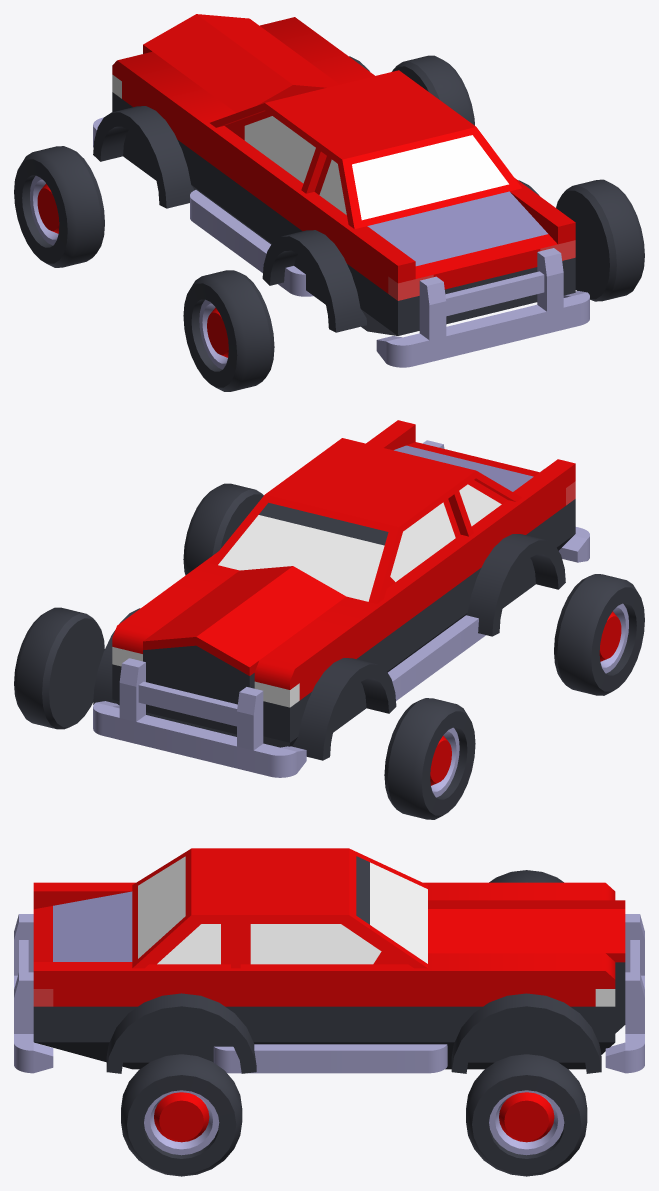
Rendered from car.glb.
3 renders of one model, top to bottom at view 1: azimuth 30°, elevation 25°; view 2: azimuth 150°, elevation 25°; view 3: azimuth 270°, elevation 25°, orthographic.
Visible parts, largest first — view 1: wheel_classic (×4), body_backFins, body_frontLuxury, body_topBackStandard, body_topStandard, bumper_large, wheel_coverStandard (×2), body_standard, bumper; view 2: wheel_classic (×4), body_frontLuxury, body_topStandard, bumper_large (×2), wheel_coverStandard (×3), body_backFins, body_standard, body_topBackStandard, bumper; view 3: body_frontLuxury, wheel_classic (×3), body_topStandard, body_backFins, wheel_coverStandard (×2), body_standard, body_topBackStandard, bumper_large (×2), bumper.
Part boxes in pixels (box(x1,y1,x2,y2)): wheel_classic (×4): box(14, 55, 644, 391); body_backFins: box(301, 178, 575, 335); body_frontLuxury: box(112, 14, 374, 196); body_topBackStandard: box(314, 113, 521, 229); body_topStandard: box(210, 70, 456, 193); bumper_large: box(376, 248, 589, 367); wheel_coverStandard (×2): box(93, 106, 366, 332); body_standard: box(204, 123, 305, 244); bumper: box(190, 190, 313, 296); wheel_classic (×4): box(14, 483, 644, 819); body_frontLuxury: box(112, 562, 381, 747); body_topStandard: box(209, 452, 473, 603); bumper_large (×2): box(93, 440, 589, 777); wheel_coverStandard (×3): box(93, 534, 565, 760); body_backFins: box(366, 420, 575, 572); body_standard: box(204, 533, 478, 672); body_topBackStandard: box(323, 438, 521, 526); bumper: box(388, 615, 485, 700); body_frontLuxury: box(428, 882, 625, 1069); wheel_classic (×3): box(121, 870, 587, 1176); body_topStandard: box(231, 848, 427, 968); body_backFins: box(33, 882, 230, 1069); wheel_coverStandard (×2): box(106, 993, 601, 1073); body_standard: box(231, 882, 427, 1044); body_topBackStandard: box(132, 848, 230, 968); bumper_large (×2): box(14, 914, 644, 1073); bumper: box(213, 1044, 447, 1073).
Size of the model in its own units: 0.4865 by 0.22 by 0.64.
